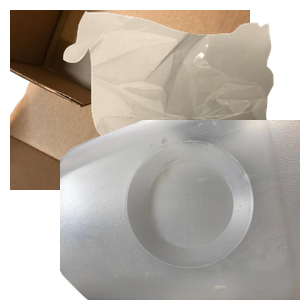cardboard: (10, 10, 250, 190)
glass: (74, 120, 244, 300)
plastic: (60, 120, 300, 300)
trash: (61, 10, 300, 190)
